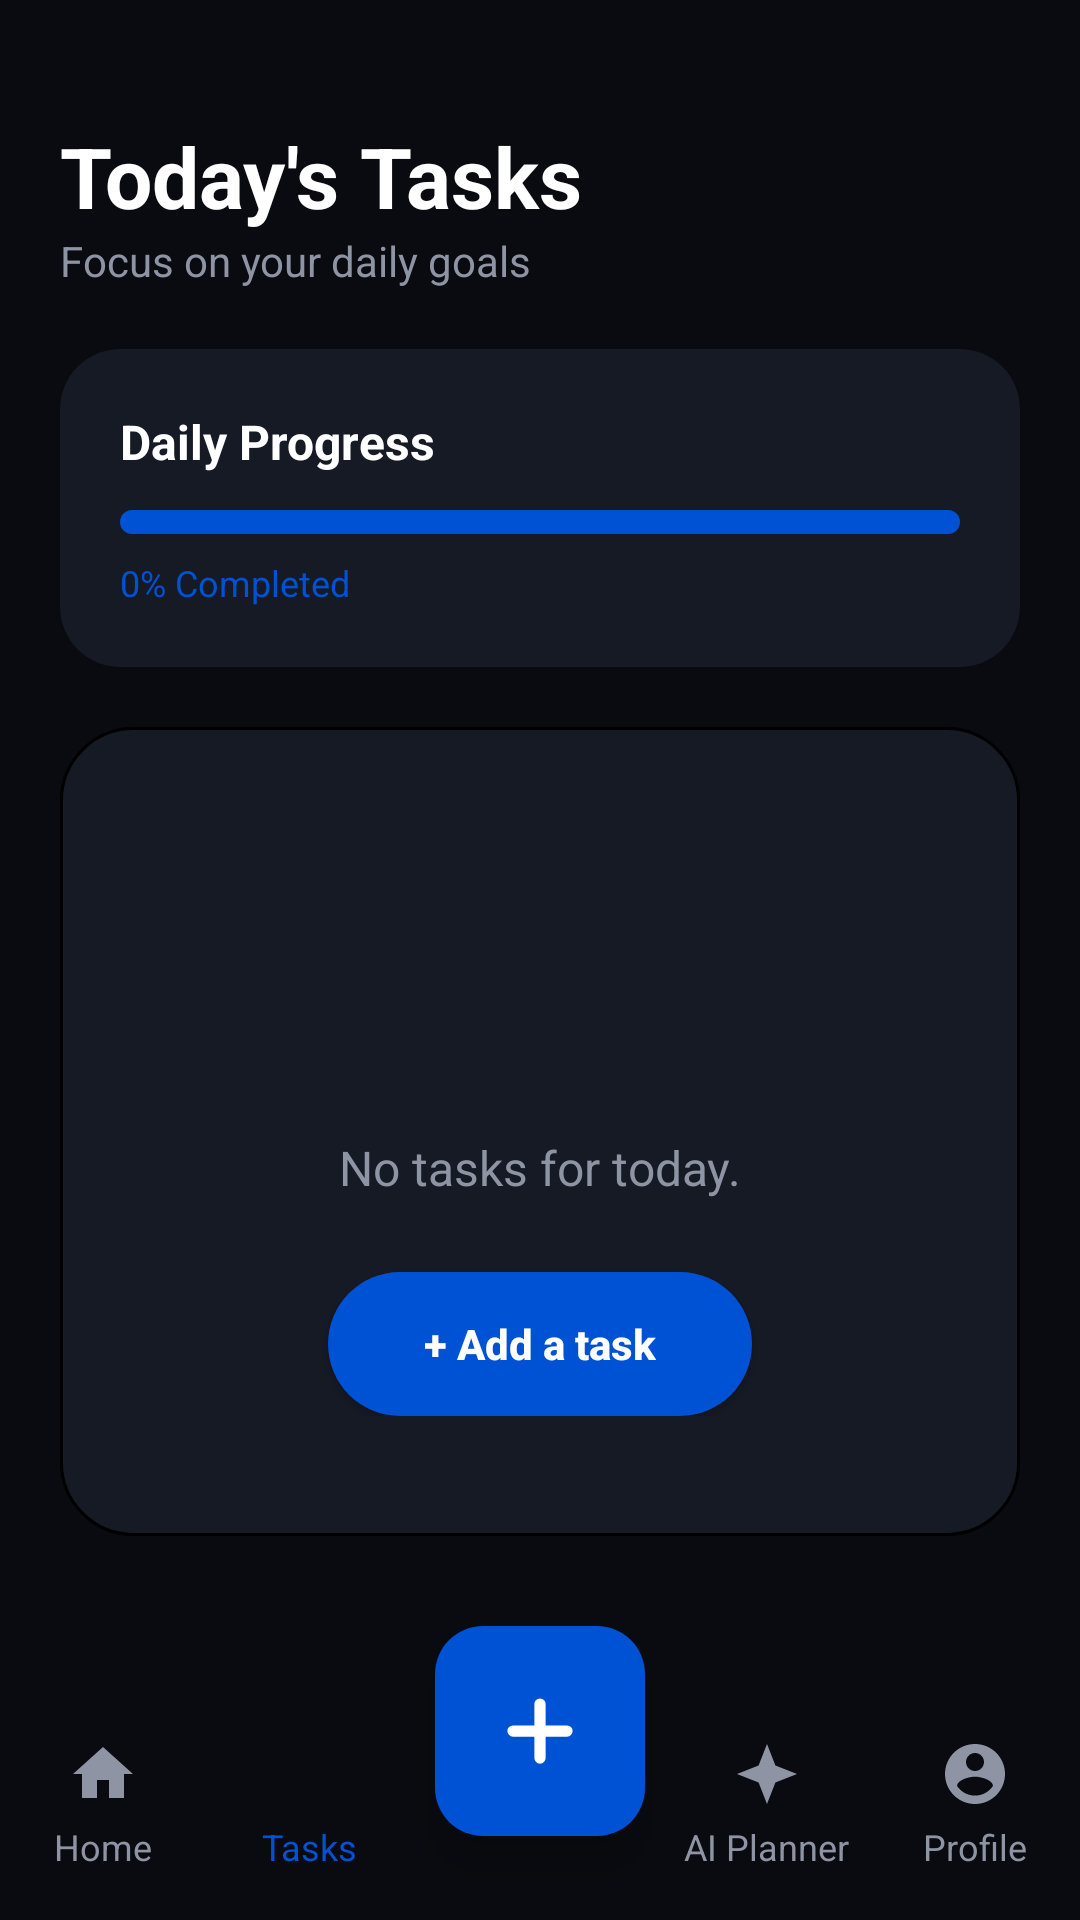

Screen size 1080 x 1920. Icon name, then its center in pixels as [x,y]:
Add New Task: [540,1731]
